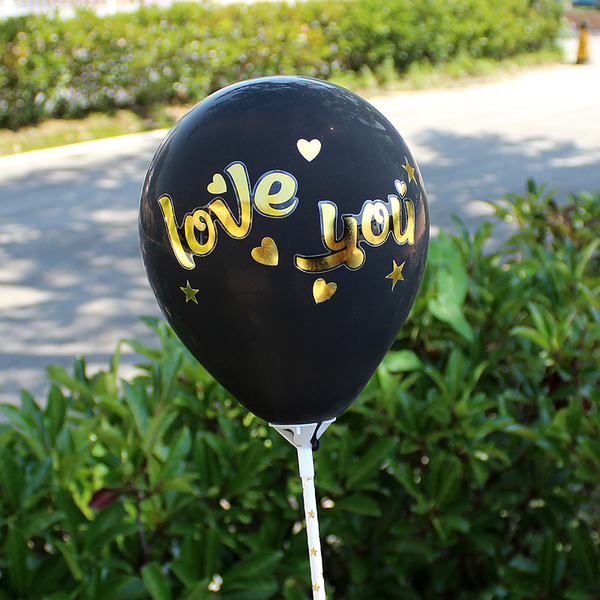balloon: (138, 77, 430, 434)
